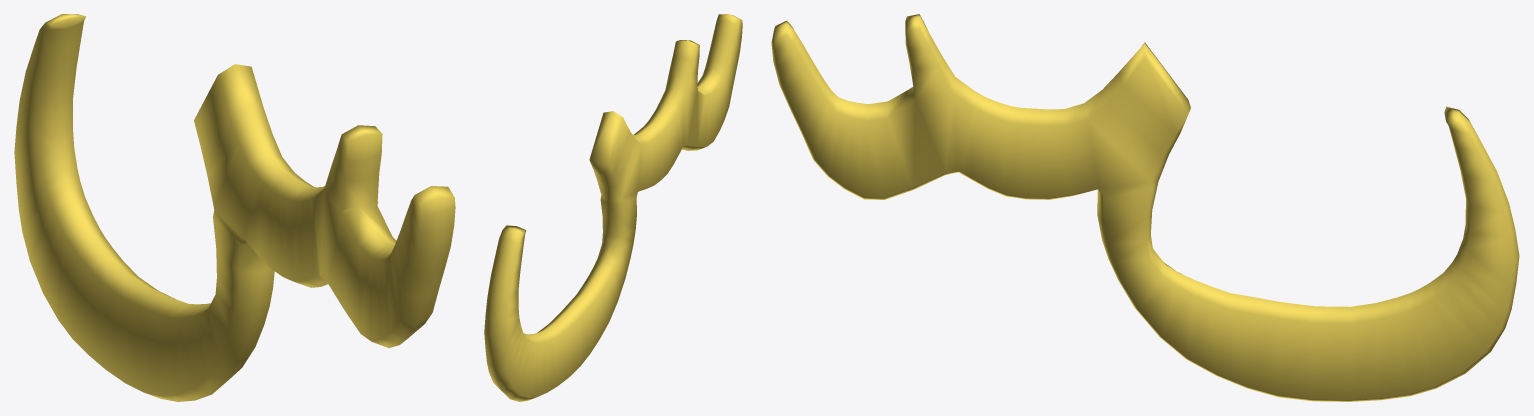
Rendered from sin.FBX.
3 renders of one model, left to right at view 1: azimuth 30°, elevation 25°; view 2: azimuth 150°, elevation 25°; view 3: azimuth 270°, elevation 25°, orthographic. The views are drawn at different scales.
Parts seen in each view (by area): view 1: sin; view 2: sin; view 3: sin.
Boxes of the visible parts, x1,y1,x2,y2 form: sin: [14, 14, 455, 401]; sin: [484, 14, 742, 401]; sin: [771, 14, 1519, 401].
Size of the model in its own units: 14.87 by 299 by 170.
1 material, 1 textured.
